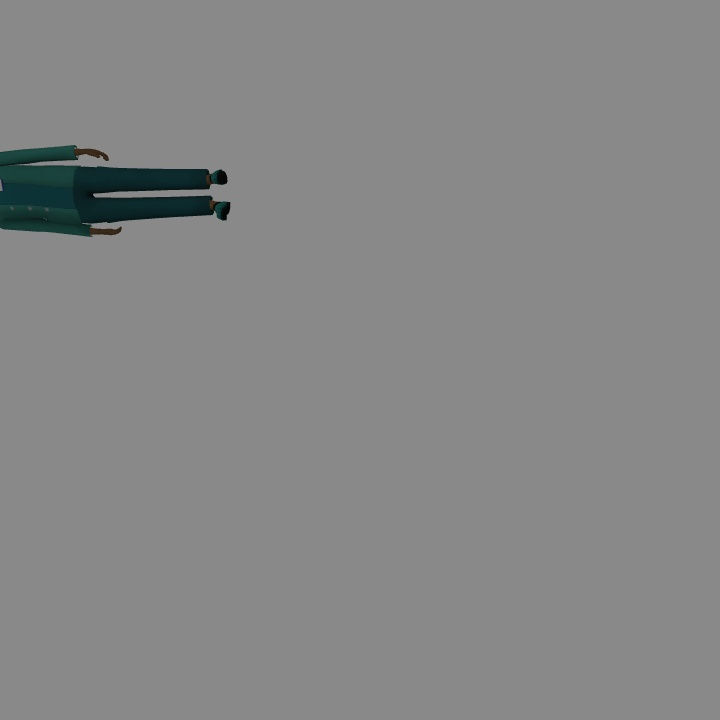victim: (1, 143, 230, 235)
